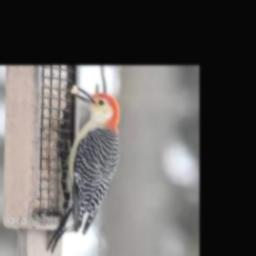Woodpecker: (46, 86, 119, 253)
